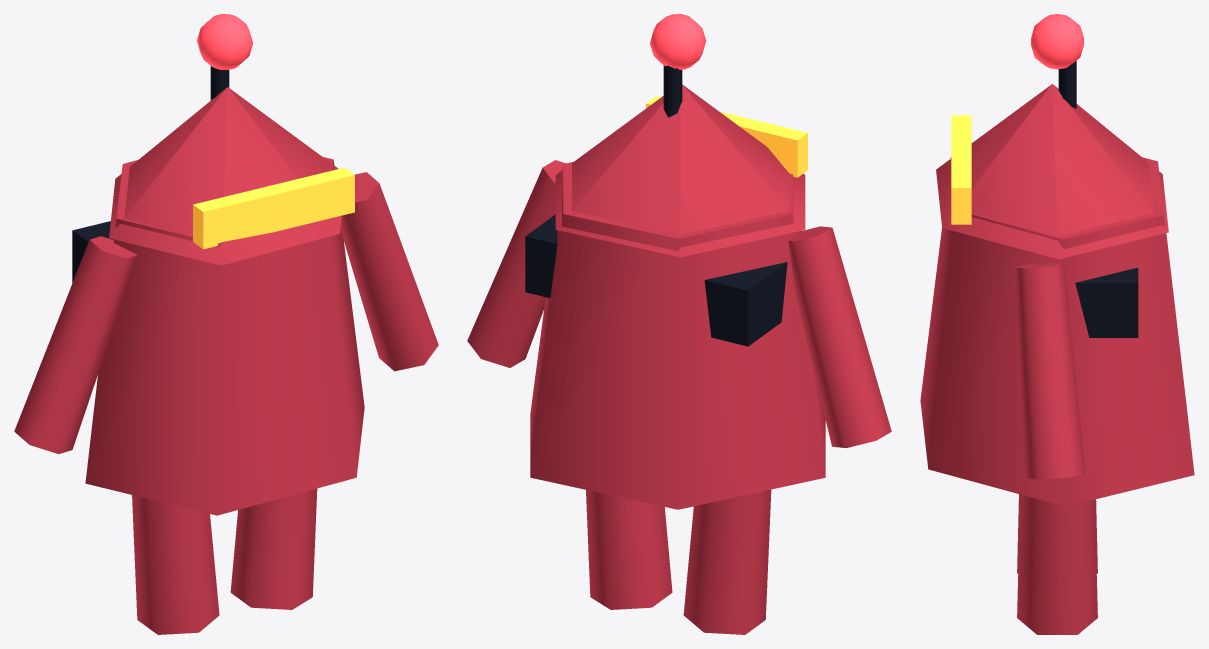
File: sentry-cinematic.glb
3 renders of one model, left to right at view 1: azimuth 30°, elevation 25°; view 2: azimuth 150°, elevation 25°; view 3: azimuth 270°, elevation 25°, orthographic.
Visible parts, largest first — view 1: sentry-body, sentry-helmet, sentry-arm-l, sentry-leg-l, sentry-arm-r, sentry-leg-r, sentry-visor, sentry-beacon, sentry-core; view 2: sentry-body, sentry-helmet, sentry-arm-l, sentry-leg-l, sentry-leg-r, sentry-arm-r, sentry-core, sentry-beacon, sentry-visor, sentry-antenna; view 3: sentry-body, sentry-helmet, sentry-arm-r, sentry-leg-r, sentry-core, sentry-beacon, sentry-visor, sentry-antenna.
Part boxes in pixels (x1,y1,x2,y2): sentry-body: (85,157,364,515); sentry-helmet: (109,87,341,265); sentry-arm-l: (14,236,137,454); sentry-leg-l: (132,495,219,634); sentry-arm-r: (340,172,438,371); sentry-leg-r: (230,488,317,609); sentry-visor: (193,167,354,249); sentry-beacon: (197,14,253,69); sentry-core: (72,221,113,282); sentry-body: (530,161,825,509); sentry-helmet: (555,84,805,257); sentry-arm-l: (788,226,891,448); sentry-leg-l: (683,489,771,634); sentry-leg-r: (586,490,672,609); sentry-arm-r: (467,160,565,367); sentry-core: (525,214,787,346); sentry-beacon: (650,14,705,69); sentry-visor: (646,96,807,177); sentry-antenna: (663,65,682,117); sentry-body: (920,157,1194,506); sentry-helmet: (936,84,1168,259); sentry-arm-r: (1014,263,1085,479); sentry-leg-r: (1017,494,1097,634); sentry-core: (1075,267,1138,337); sentry-beacon: (1031,14,1083,69); sentry-visor: (951,115,971,224); sentry-antenna: (1058,61,1076,108).
Bounding box in the file's own units: 0.918 × 1.27 × 0.5425.
